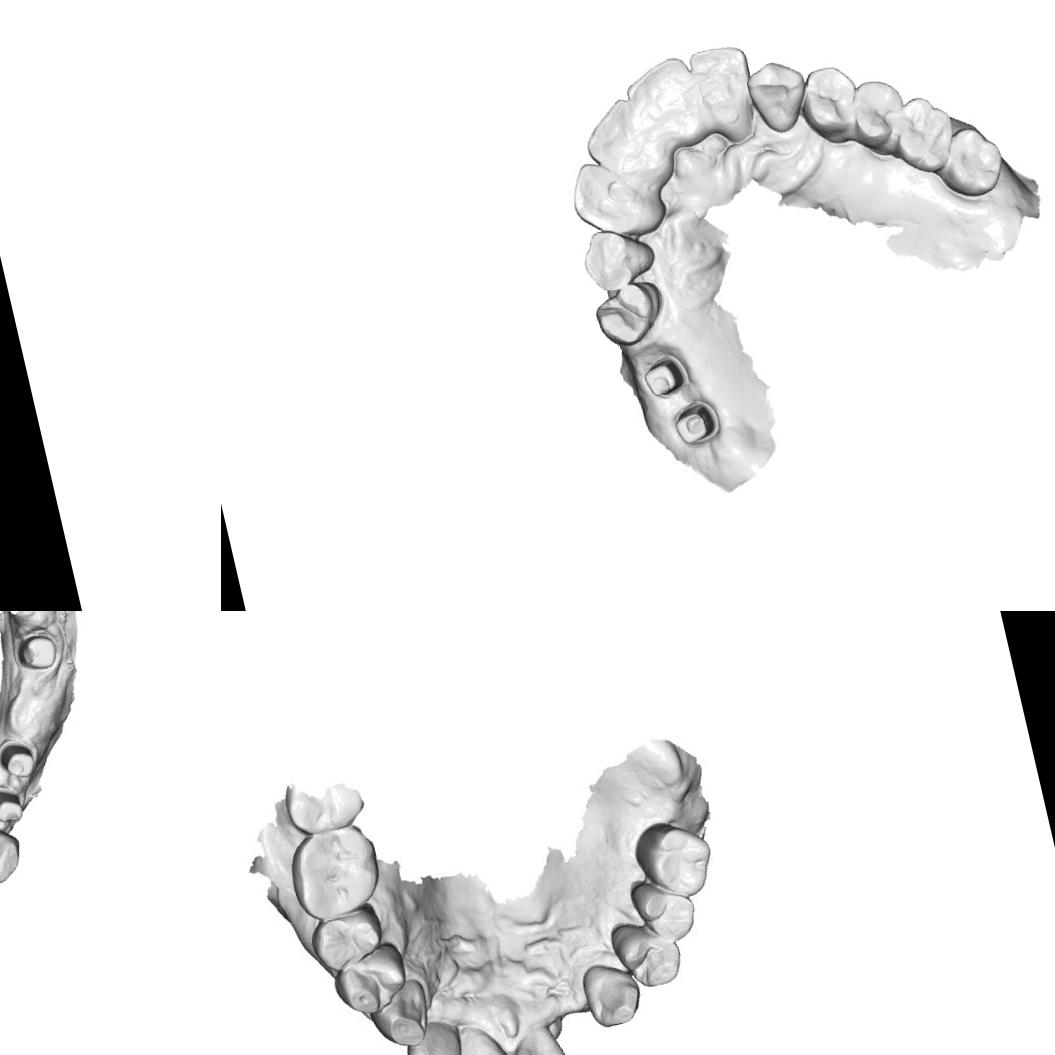abutment: (666, 397, 723, 452), (638, 351, 691, 402), (14, 630, 60, 674), (0, 734, 39, 783), (0, 781, 25, 829)
canine: (574, 220, 658, 296), (740, 54, 814, 140), (575, 952, 649, 1034), (367, 978, 440, 1054), (0, 810, 28, 891)
incisor: (562, 151, 656, 246), (575, 90, 663, 186), (616, 50, 700, 138), (686, 38, 758, 120), (445, 1023, 517, 1055), (398, 1021, 464, 1055), (503, 1025, 577, 1055)
molar: (281, 820, 389, 925), (628, 812, 720, 907), (884, 88, 965, 180), (932, 118, 1012, 204)
premolar: (327, 938, 417, 1022), (587, 274, 674, 353), (610, 912, 689, 996), (792, 58, 868, 141), (840, 72, 914, 154), (306, 906, 388, 979), (626, 870, 700, 949)
